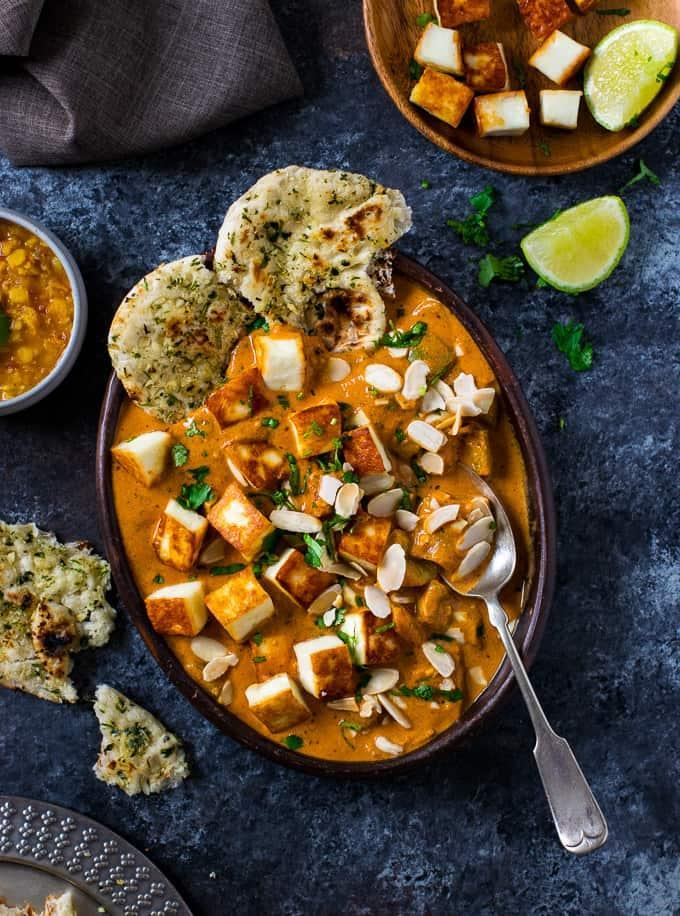paneer: (188, 444, 423, 650)
